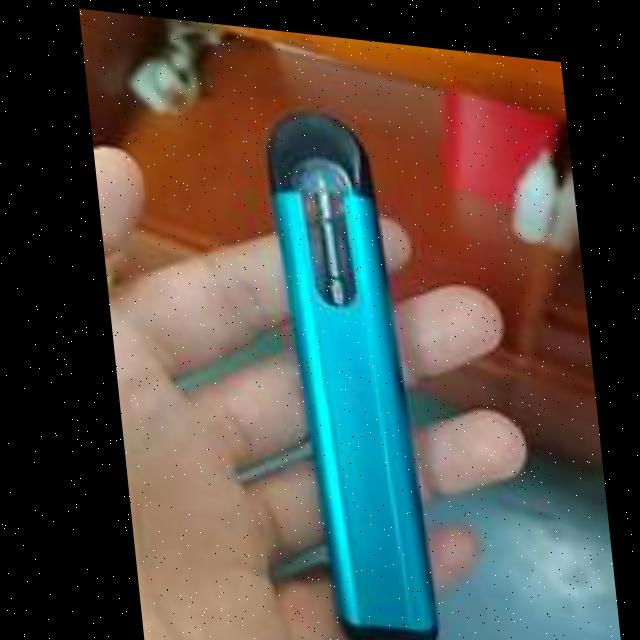vape: (259, 95, 433, 640)
